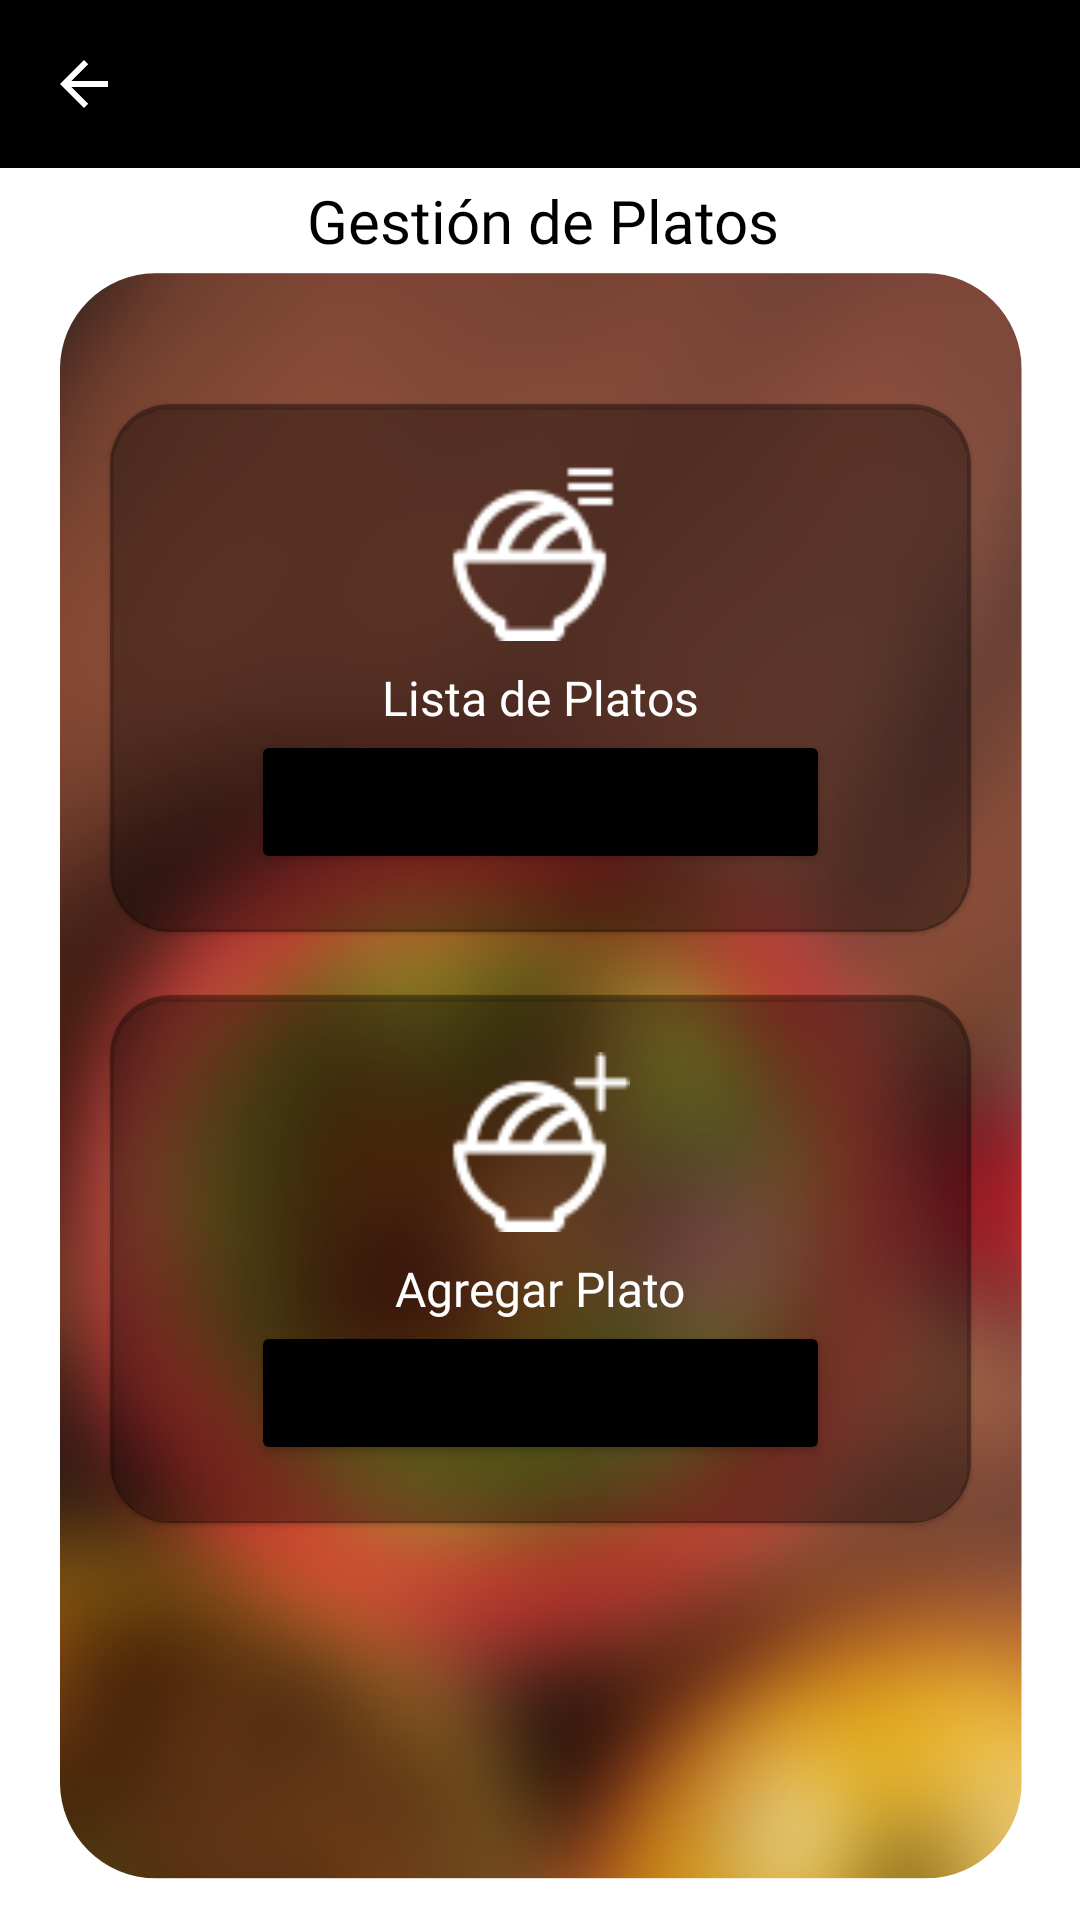

Where to tap for icons on this 1080px x 1920px app screen, as [x,y]:
comida: [540,1142]
